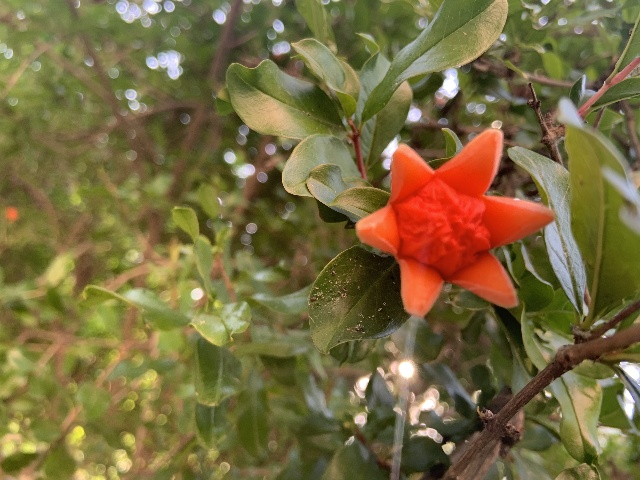flower: (355, 128, 553, 317)
